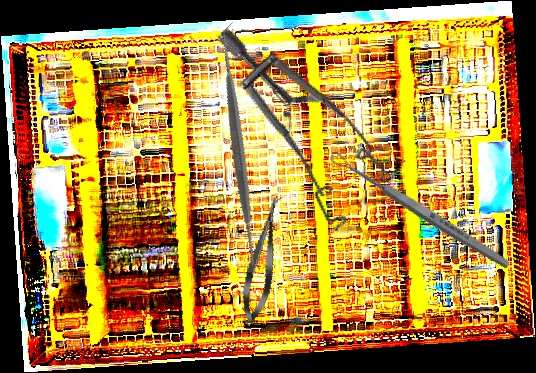Micro Scissor: (236, 193, 290, 326)
Spatula Surgical: (111, 21, 366, 275)
Speculum: (166, 26, 426, 246)
Surgical Spoon: (327, 148, 513, 272)
